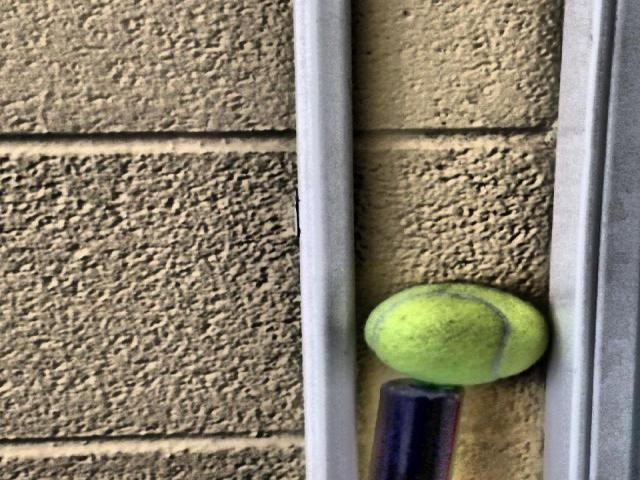tennis-ball: (363, 280, 550, 386)
